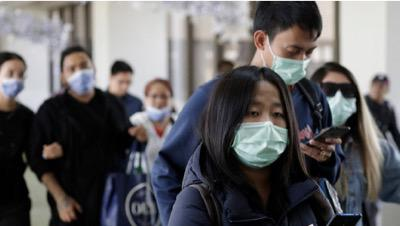mask_weared_incorrect: (145, 91, 173, 122)
with_mask: (229, 95, 290, 169), (317, 77, 357, 127), (63, 58, 95, 93), (0, 66, 26, 98)
without_mask: (110, 74, 133, 96)
